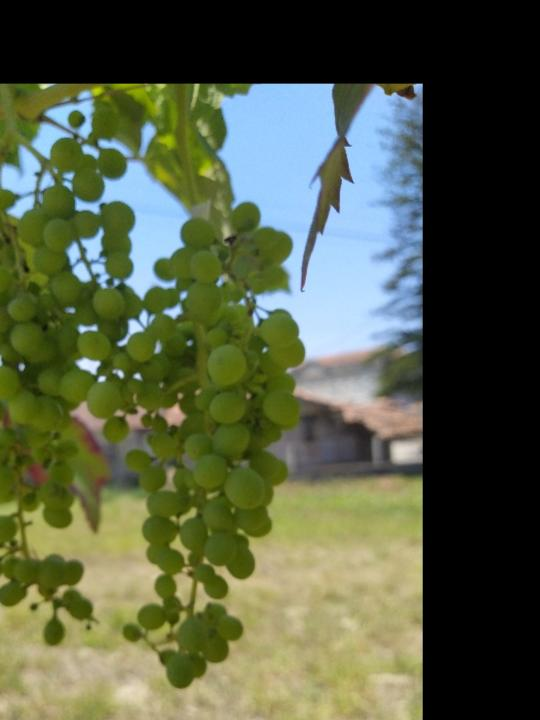grape: (104, 201, 308, 695), (0, 112, 137, 648)
